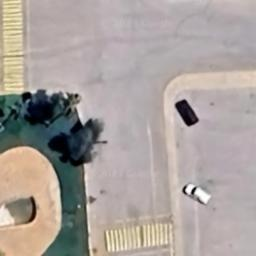unknown: (170, 97, 204, 130)
van: (179, 176, 217, 208)
